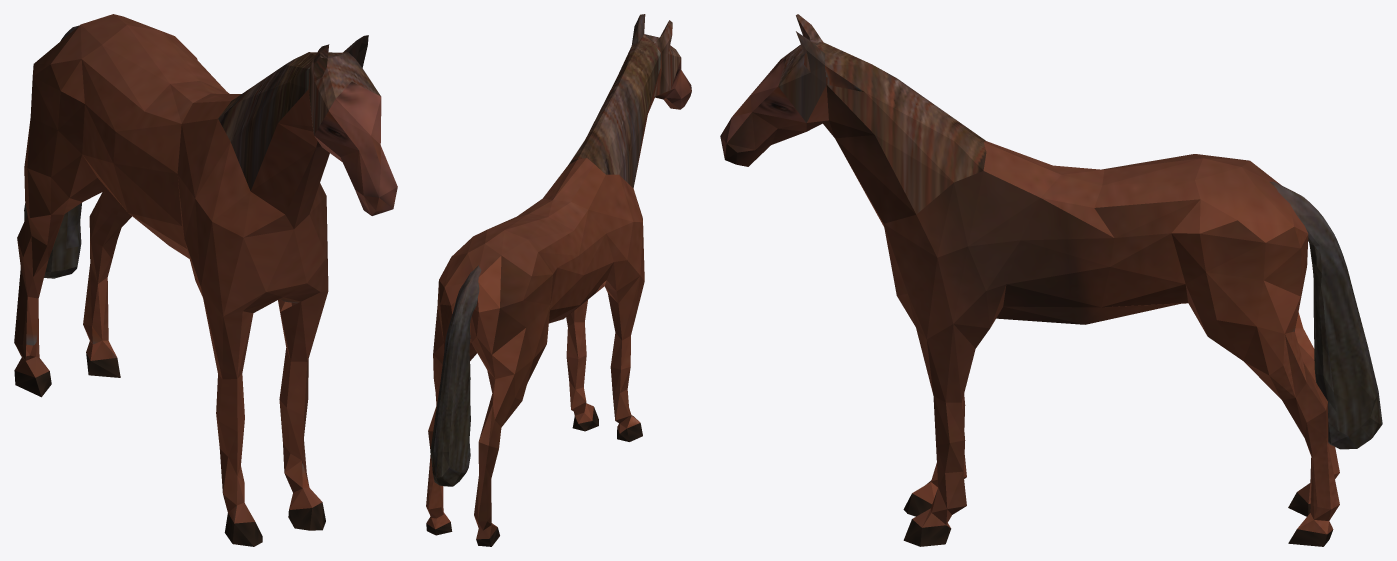
The model's file is animal-horse.fbx.
3 renders of one model, left to right at view 1: azimuth 30°, elevation 25°; view 2: azimuth 150°, elevation 25°; view 3: azimuth 270°, elevation 25°, orthographic. The views are drawn at different scales.
Parts seen in each view (by area): view 1: horse.001; view 2: horse.001; view 3: horse.001.
Boxes of the visible parts, bbox=[...] form: horse.001: bbox=[14, 14, 397, 546]; horse.001: bbox=[426, 14, 691, 546]; horse.001: bbox=[720, 14, 1382, 546].
Bounding box in the file's own units: 31.35 × 115 × 137.
